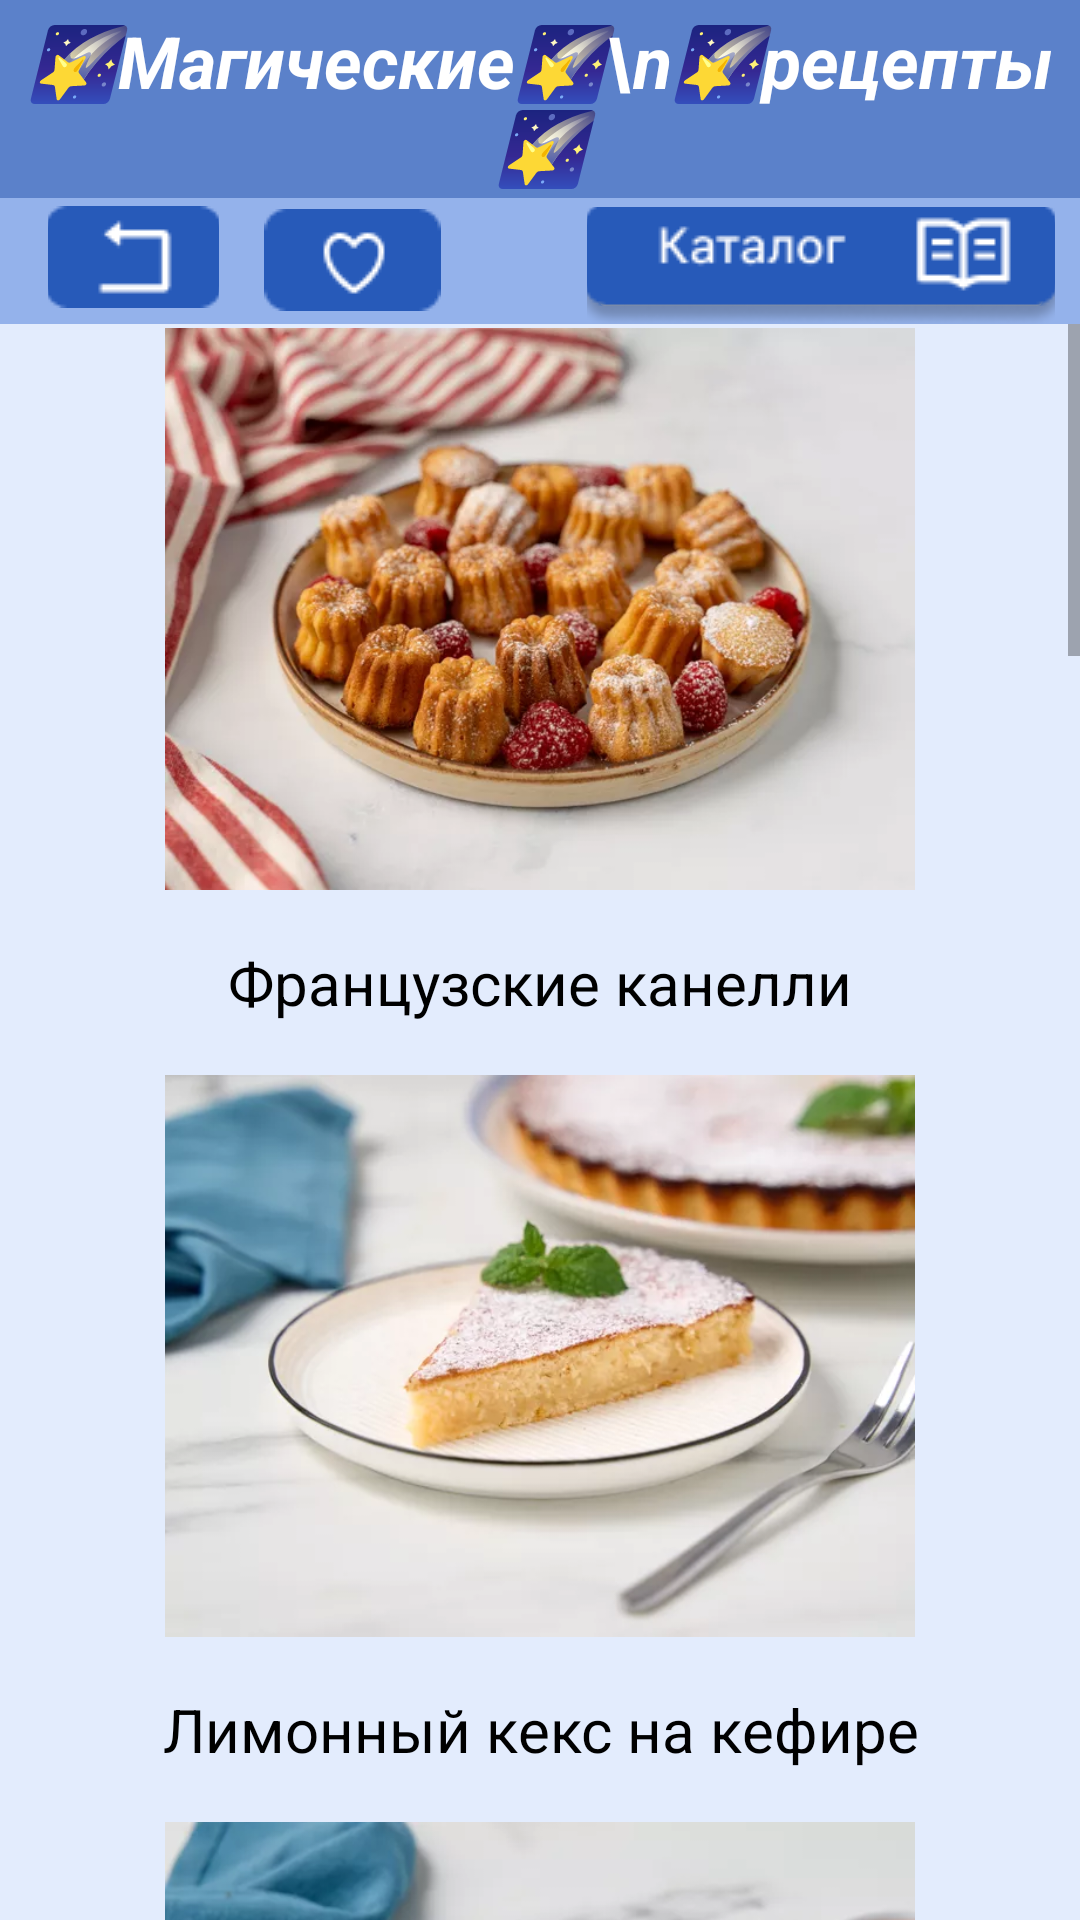

Icons on this 1080 × 1920 Android screen, each with its box as bbox=(x1, y1, x2, y2):
exitaccount: bbox=(48, 206, 219, 308)
favouritebutton: bbox=(264, 209, 441, 311)
